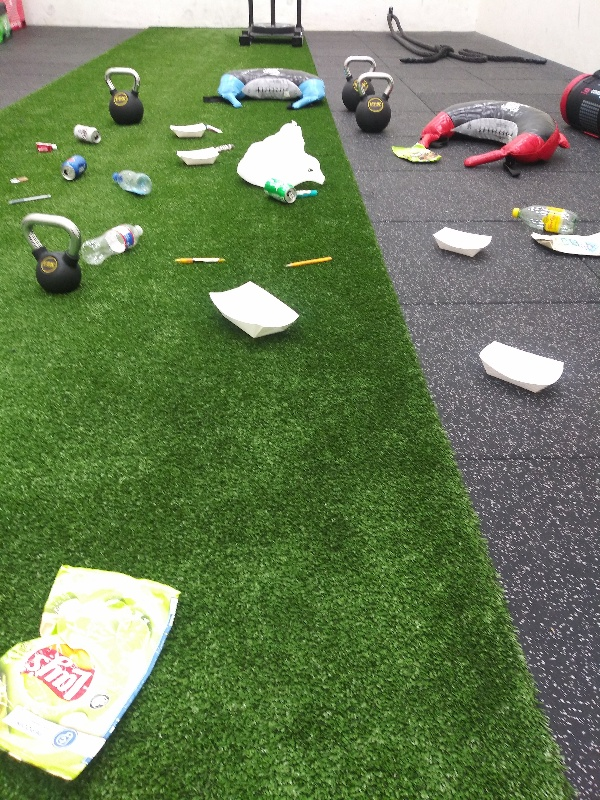bag: (1, 562, 186, 791), (525, 230, 600, 256), (386, 142, 448, 169)
bottle: (78, 221, 148, 266), (510, 200, 581, 236), (111, 169, 154, 197)
can: (263, 178, 300, 205), (57, 155, 89, 186), (70, 120, 102, 147)
plate: (201, 278, 301, 341), (474, 335, 570, 400), (430, 224, 498, 261), (172, 144, 219, 169), (164, 120, 212, 139)
